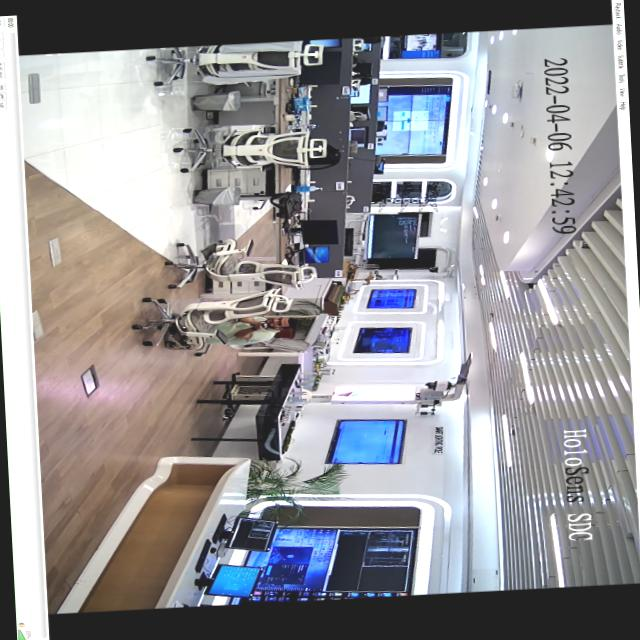long weapon: (248, 320, 276, 330)
